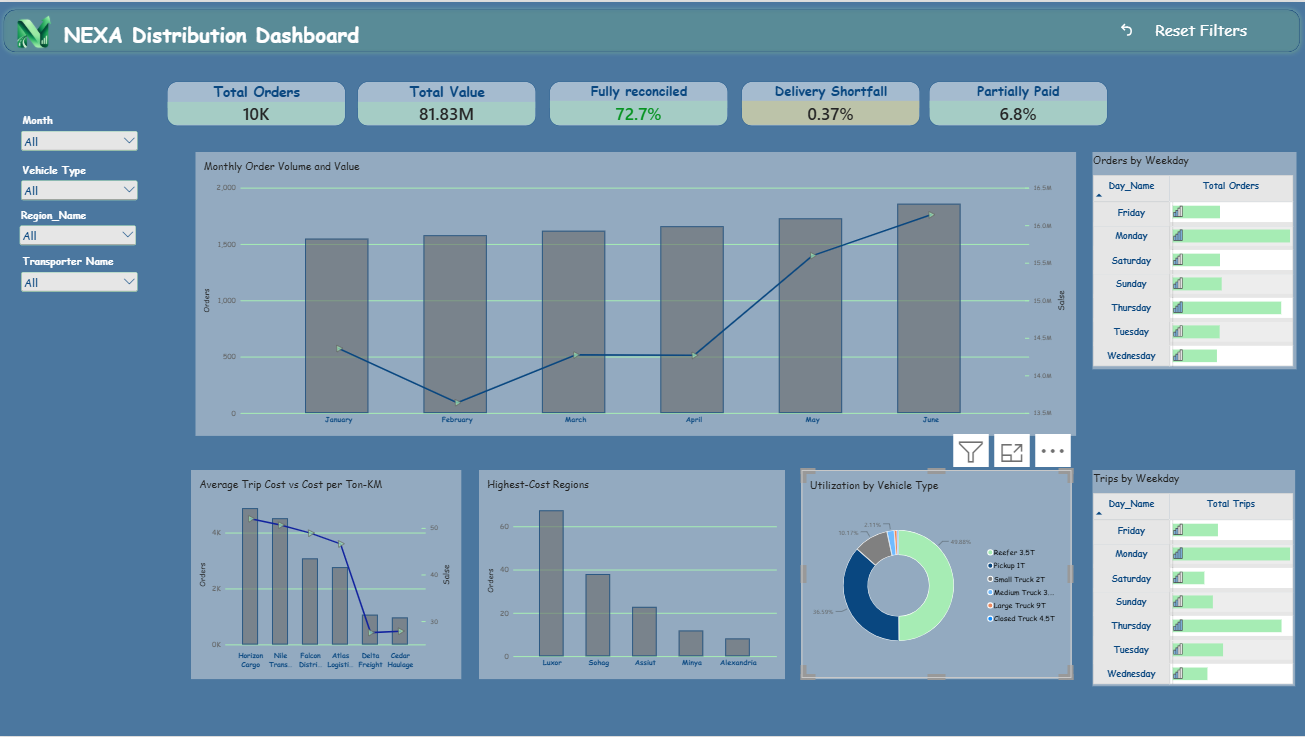

What the dashboard file says about the page in this screenshot:
{"tool":"powerbi","page":{"name":"Executive Overview Page","canvas":[2560,1440],"ordinal":0},"visuals":[{"type":"cardVisual","title":"Total Orders","fields":{"Data":["Fact_orders (2).Total Orders"]},"box":[330.6,119.5,350,87],"z":0},{"type":"cardVisual","title":"Total Value","fields":{"Data":["Sum(Fact_orders (2).Sales_Value_EGP)"]},"box":[703.3,118.5,350,87],"z":1000},{"type":"cardVisual","title":"Fully reconciled","fields":{"Data":["Dim_Customer.Fully Reconciled %"]},"box":[1080,118.5,350,87],"z":2000},{"type":"cardVisual","title":"Partially Paid","fields":{"Data":["V_Order_Reconciliation.Partially Paid%"]},"box":[1823.3,118.5,350,87],"z":3000},{"type":"cardVisual","title":"Delivery Shortfall","fields":{"Data":["V_Order_Reconciliation.Delivery Shortfall %"]},"box":[1456.7,118.5,350,87],"z":4000},{"type":"lineClusteredColumnComboChart","title":"Monthly Order Volume and Value","fields":{"Category":["Dim_Date.Date.Variation.Date Hierarchy.Month"],"Y":["CountNonNull(Fact_orders (2).Order_ID)"],"Y2":["Sum(Fact_orders (2).Sales_Value_EGP)"]},"box":[386.7,216.7,1726.7,470],"z":5000},{"type":"pivotTable","title":"Orders and Trips by Weekday","fields":{"Rows":["Dim_Date.Day_Name"],"Values":["Fact_orders (2).Total Orders","Fact_Trips (2).Total Trips"]},"box":[940,1050,636,379],"z":6000},{"type":"clusteredColumnChart","title":"Highest-Cost Regions","fields":{"Category":["Fact_Trips (2).Final_Region_Name"],"Y":["Fact_Trips (2).Cost_per_KG"]},"box":[950.3,698.6,600,340],"z":7000},{"type":"donutChart","title":"Trip Distribution by Vehicle Type","fields":{"Category":["Dim_VehicleType (2).Vehicle_Type"],"Y":["Sum(Fact_Trips (2).Final_Utilization_Rate)"]},"box":[1583.7,698.6,530,340],"z":8000},{"type":"lineClusteredColumnComboChart","title":"Average Trip Cost vs Cost per Ton-KM","fields":{"Category":["Fact_Trips (2).Transporter_Name_Raw"],"Y":["Avg(Fact_Trips (2).Trip_Cost_EGP)"],"Y2":["Fact_Trips (2).Cost per Ton-KM"]},"box":[387,698.6,530,340],"z":9000},{"type":"slicer","fields":{"Values":["Dim_Date.Date.Variation.Date Hierarchy.Month"]},"box":[37.5,217.1,238.6,97.1],"z":12000},{"type":"shape","box":[0,7.1,2560,101.4],"z":13000},{"type":"actionButton","box":[2196.7,16.7,320,73.3],"z":14000},{"type":"image","box":[23.8,16.2,86.9,83.8],"z":15000},{"type":"slicer","fields":{"Values":["Dim_VehicleType (2).Vehicle_Type"]},"box":[37.5,314.3,238.6,75.7],"z":18000},{"type":"slicer","fields":{"Values":["Dim_Transporter.Transporter_Name"]},"box":[37.5,492.9,238.6,80],"z":19000},{"type":"slicer","fields":{"Values":["Dim_Region (2).Region_Name"]},"box":[36.1,403.8,238.6,88.6],"z":20000},{"type":"shape","box":[73.3,23.3,686.7,76.7],"z":21000}]}

Visuals, with their boxes in screenshot pixels (x1, y1, x2, y2), scaled from the page's 2560x1440 canvas onto the 1305x737 screenshot:
"Total Orders" cardVisual: 169 61 347 106
"Total Value" cardVisual: 359 61 537 105
"Fully reconciled" cardVisual: 551 61 729 105
"Partially Paid" cardVisual: 929 61 1108 105
"Delivery Shortfall" cardVisual: 743 61 921 105
"Monthly Order Volume and Value" lineClusteredColumnComboChart: 197 111 1077 351
"Orders and Trips by Weekday" pivotTable: 479 537 803 731
"Highest-Cost Regions" clusteredColumnChart: 484 358 790 532
"Trip Distribution by Vehicle Type" donutChart: 807 358 1077 532
"Average Trip Cost vs Cost per Ton-KM" lineClusteredColumnComboChart: 197 358 467 532
slicer - Dim_Date.Date.Variation.Date Hierarchy.Month: 19 111 141 161
shape: 0 4 1304 56
actionButton: 1120 9 1283 46
image: 12 8 56 51
slicer - Dim_VehicleType (2).Vehicle_Type: 19 161 141 200
slicer - Dim_Transporter.Transporter_Name: 19 252 141 293
slicer - Dim_Region (2).Region_Name: 18 207 140 252
shape: 37 12 387 51
